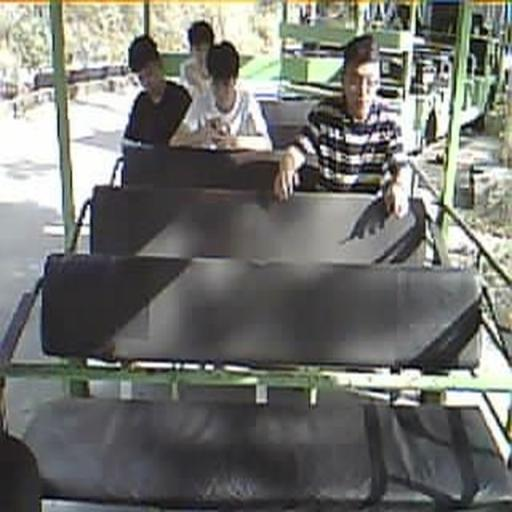persona: (272, 34, 411, 220), (172, 40, 274, 153), (120, 34, 193, 151), (178, 19, 216, 99)
